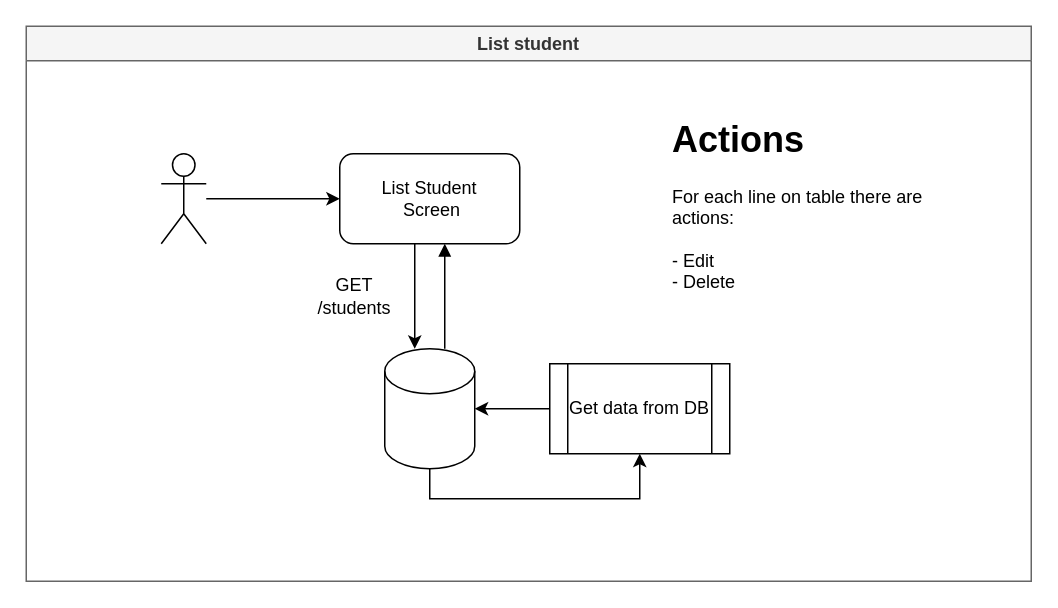
Some shapes in this 1058 by 608 pixel diagram are drawn without their labels. The shapes that lost their labels are listed below. From the top down, each one's box as (x1, y1, x2, y2) in pixels, then its label:
(160, 152, 206, 244): Administrator
(383, 347, 475, 469): Server
